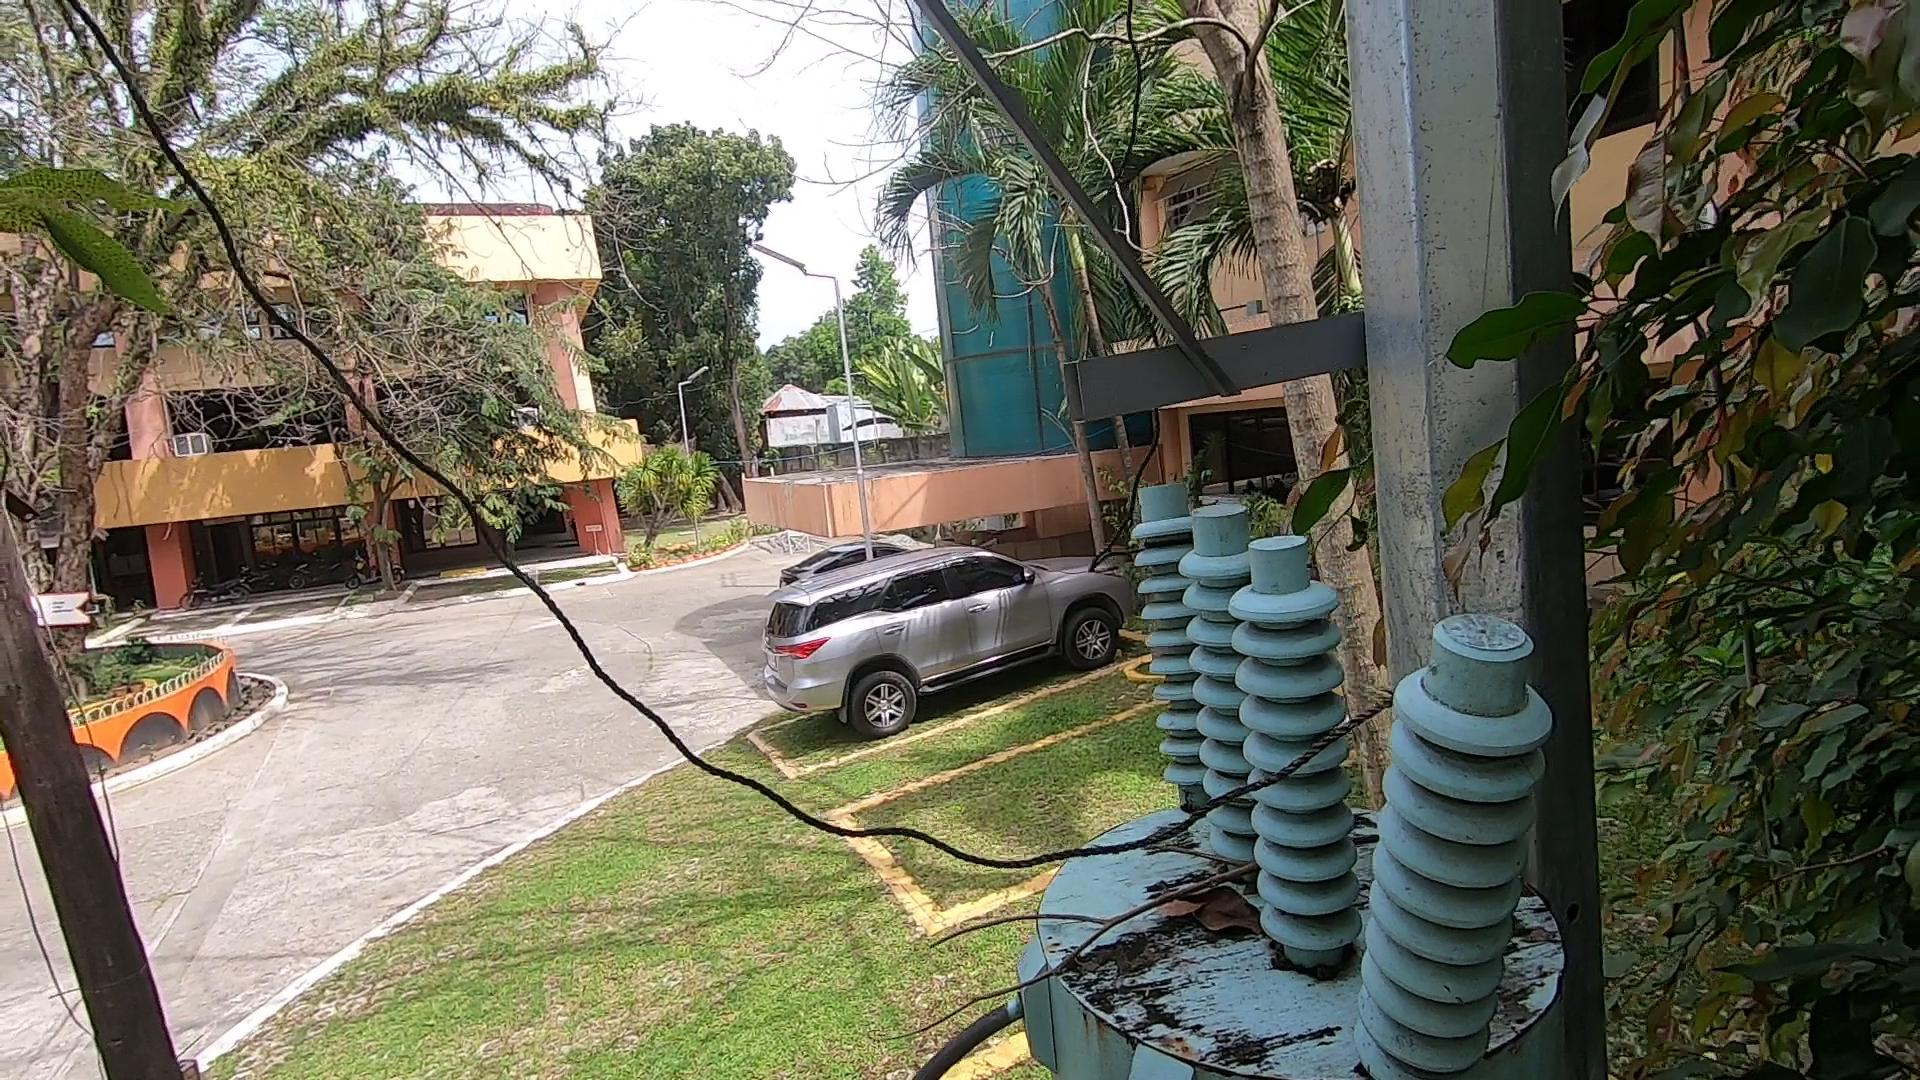leaf: (1147, 868, 1273, 964)
tree branch: (911, 853, 1267, 1039)
